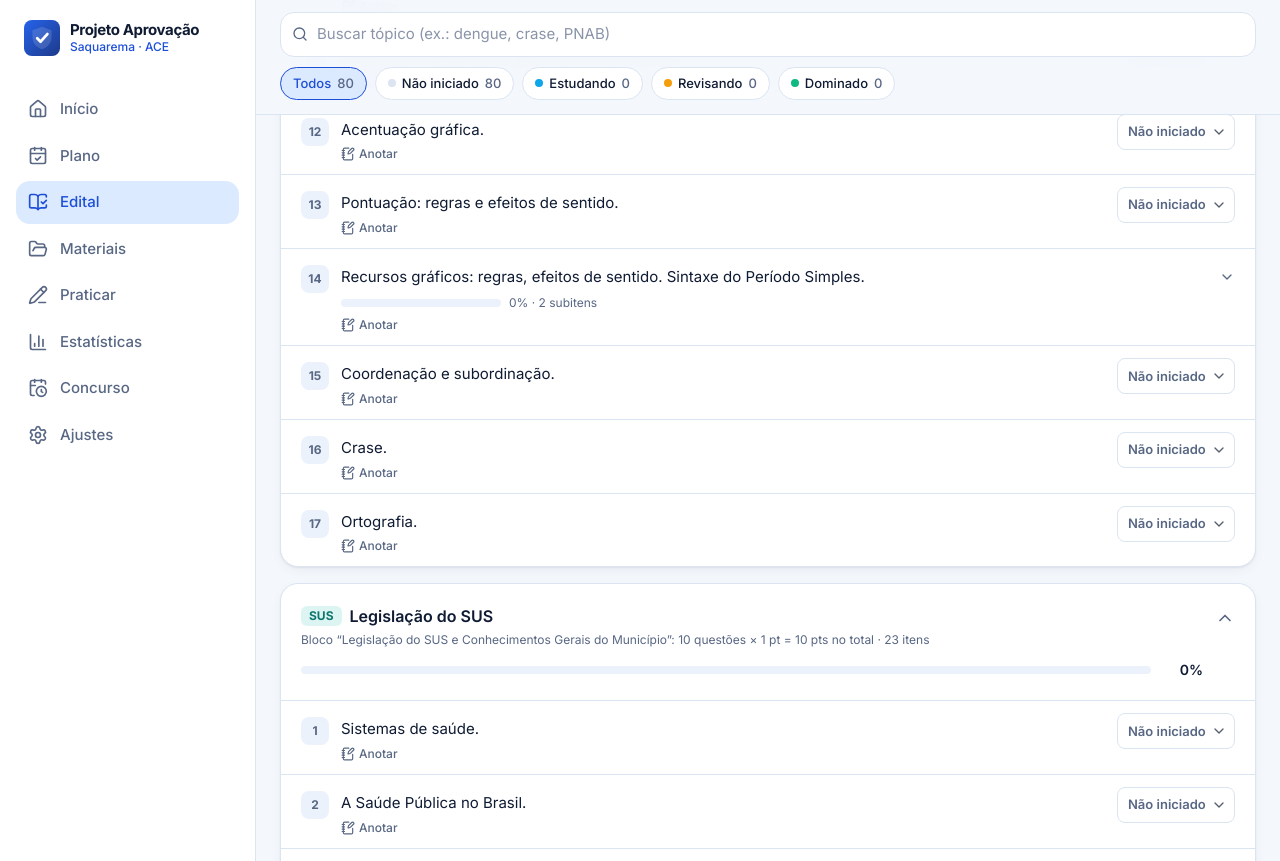
Scenario: edital verticalizado › lista as 4 disciplinas e salva o status de um tópico
The image size is (1280, 861).
(page scrolled)
Expected: the heading "Legislação do SUS" is shown, [350, 604, 493, 628]
Select "Dominado" in the dropdown named "Status: Crase." at (1176, 450), box [1117, 432, 1235, 468]
(page scrolled)
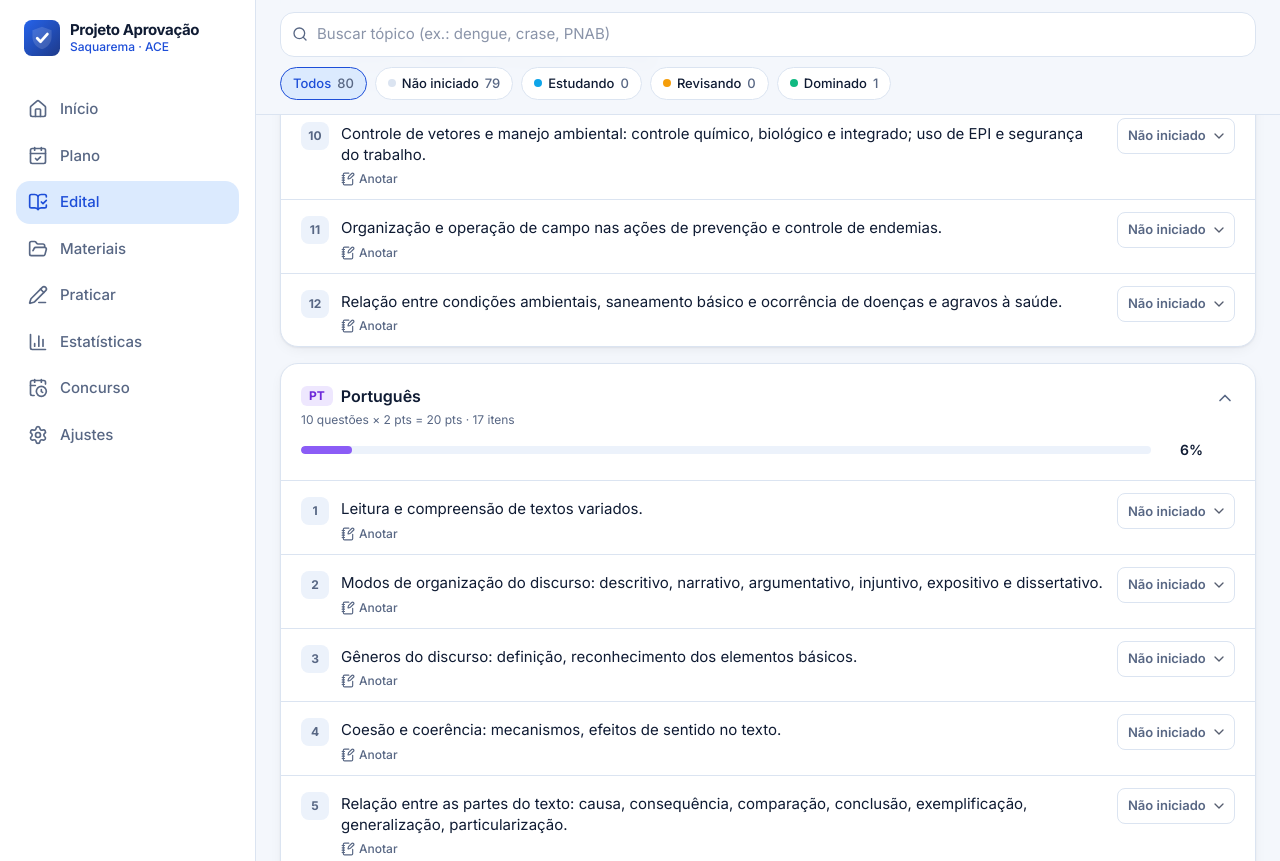
Result: the progress indicator named "Progresso em Português" has attribute aria-valuenow="6" at [301, 446, 1151, 454]
